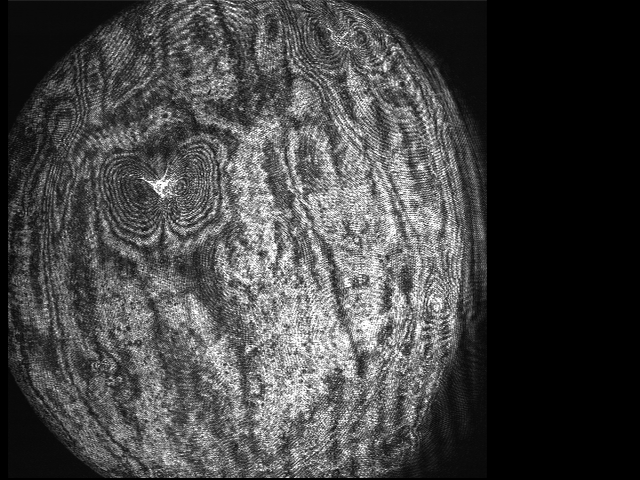plume: (93, 143, 223, 243)
